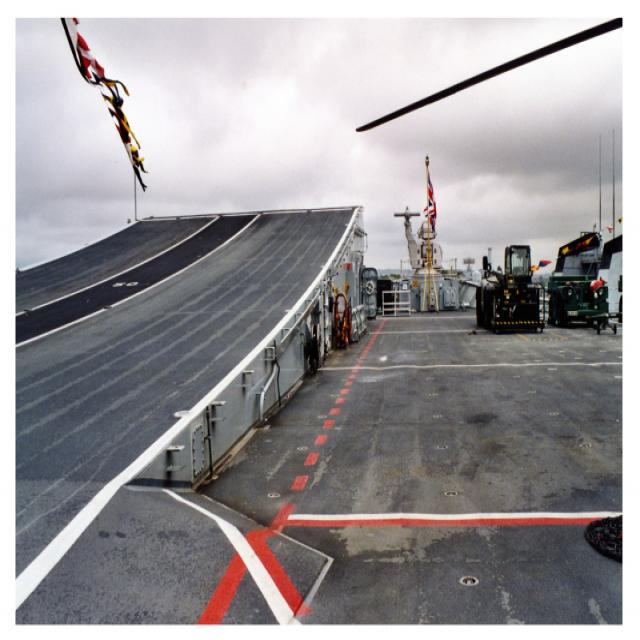Portanaves: (20, 65, 621, 569)
